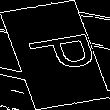P_E: (12, 31, 98, 79)
